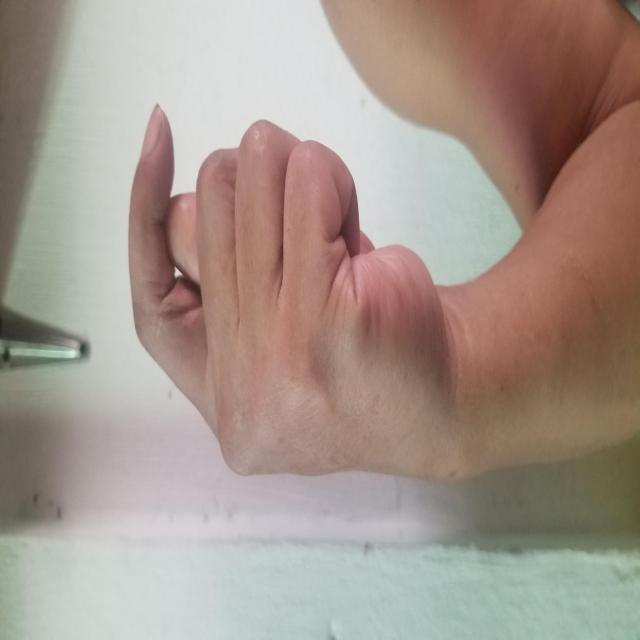T: (155, 126, 541, 442)
